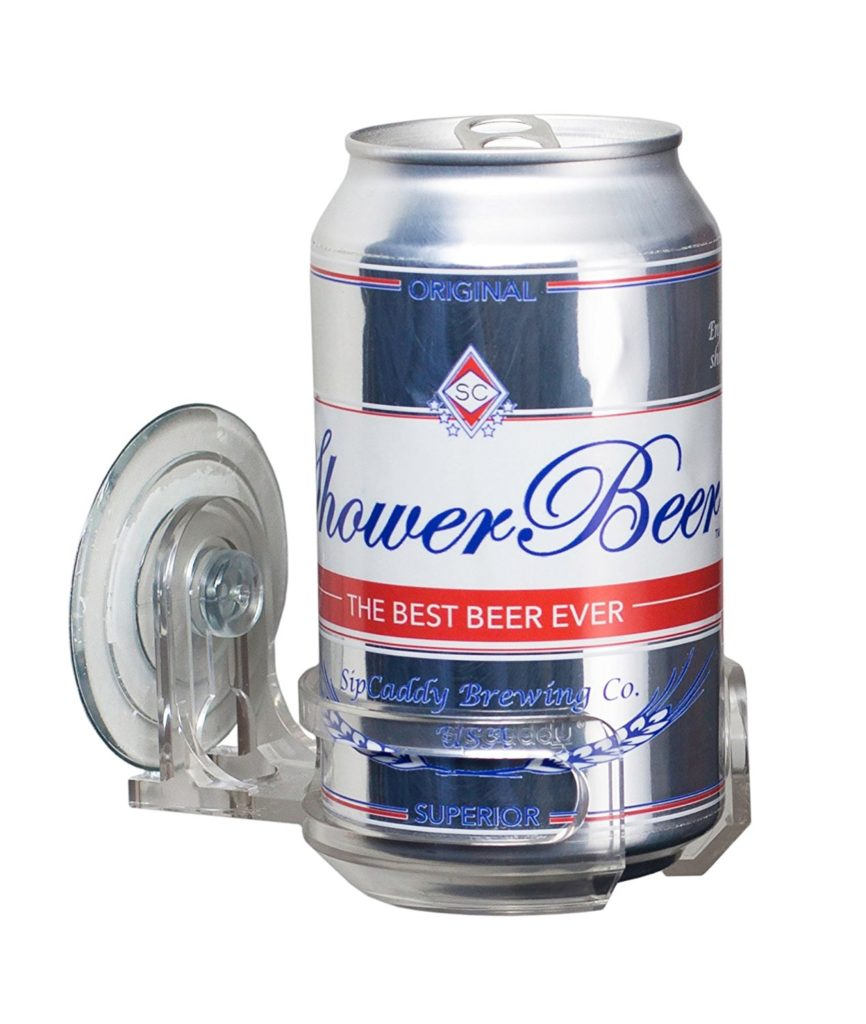beer can: (307, 111, 732, 884)
